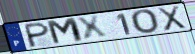1: (116, 13, 132, 36)
M: (45, 17, 86, 46)
O: (130, 9, 161, 35)
P: (25, 21, 51, 49)
X: (75, 14, 110, 42), (156, 4, 188, 32)
